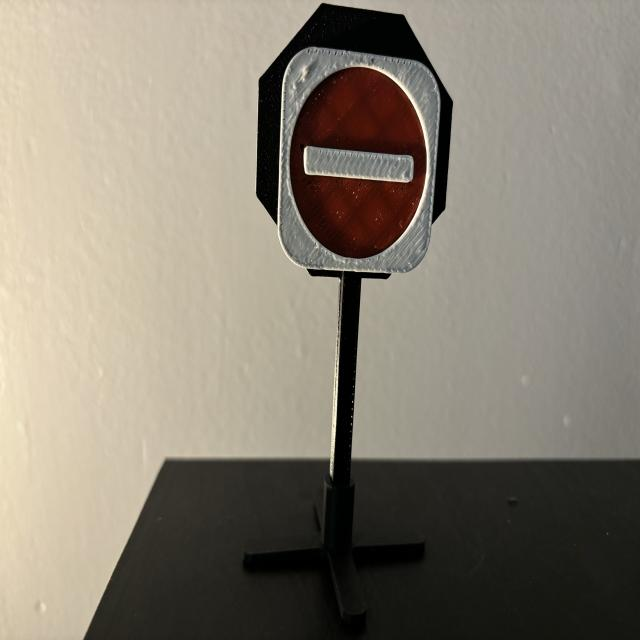sign_noentry: (279, 47, 440, 272)
